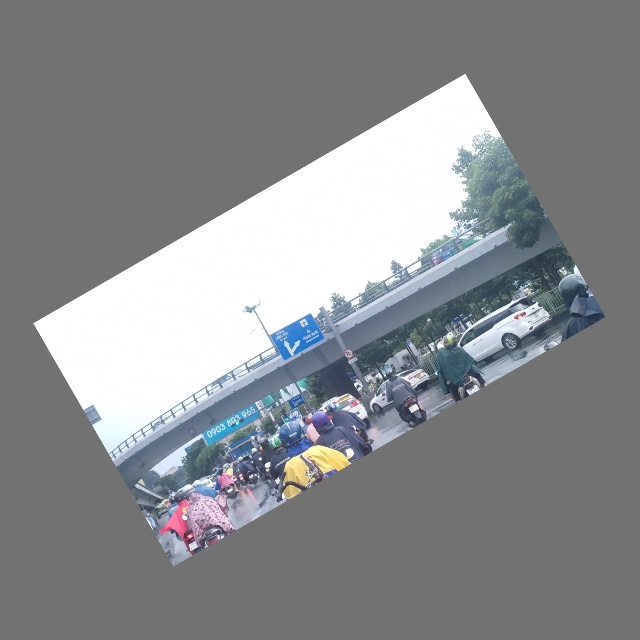P.124b1: (342, 346, 357, 362)
